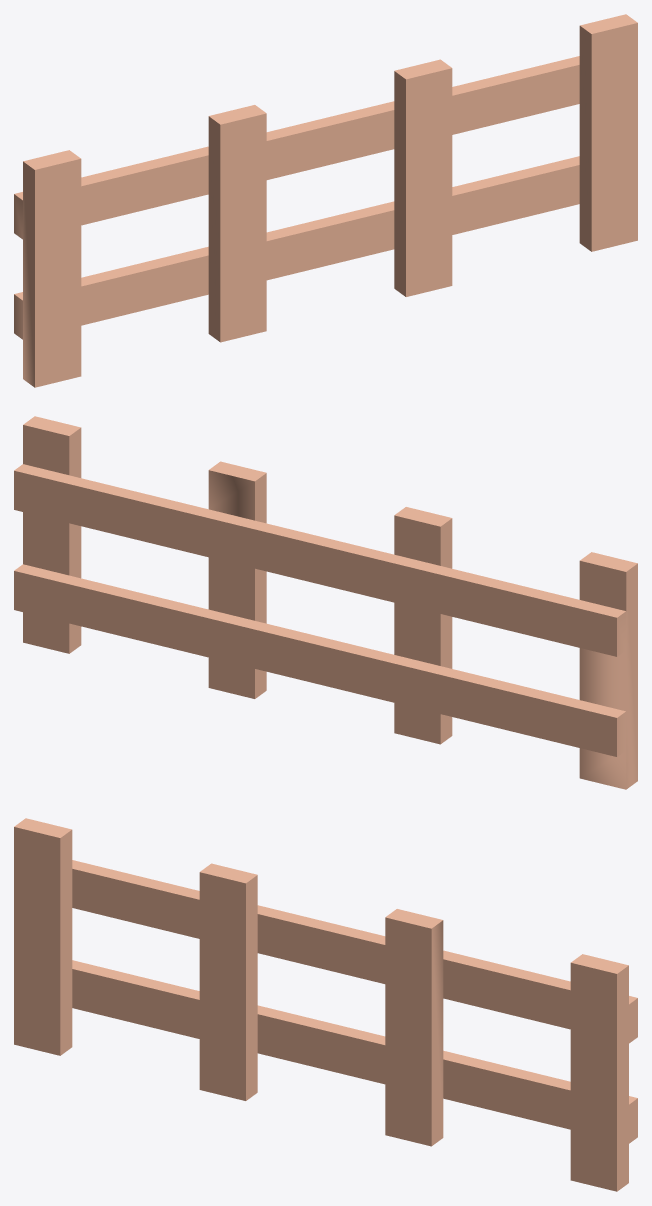
The model's file is fence_planksDouble.glb.
3 views of the same model, one above another, from view 1: azimuth 30°, elevation 25°; view 2: azimuth 150°, elevation 25°; view 3: azimuth 330°, elevation 25° (orthographic).
Parts seen in each view (by area): view 1: fence_planksDouble; view 2: fence_planksDouble; view 3: fence_planksDouble.
Boxes of the visible parts, bbox=[...] form: fence_planksDouble: bbox=[14, 14, 637, 387]; fence_planksDouble: bbox=[14, 416, 637, 789]; fence_planksDouble: bbox=[14, 818, 637, 1191].
Bounding box in the file's own units: 1 × 0.345 × 0.0599.
